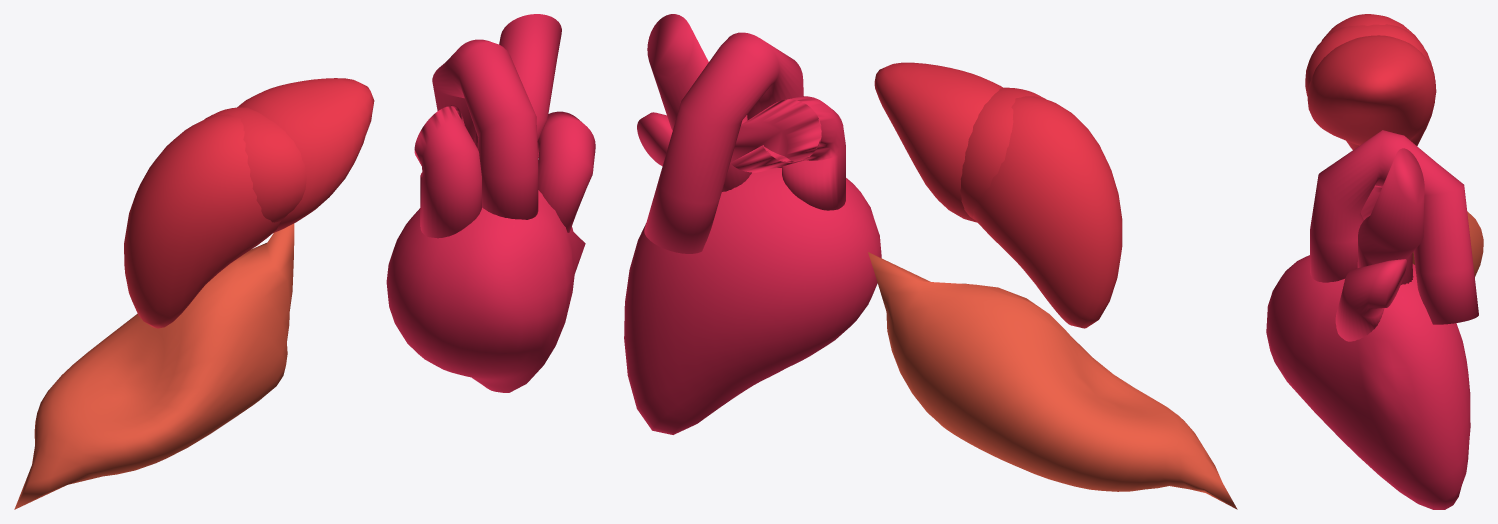
The model's file is TheOrgans3.glb.
3 views of the same model, side by side, from view 1: azimuth 30°, elevation 25°; view 2: azimuth 150°, elevation 25°; view 3: azimuth 270°, elevation 25° (orthographic). The views are drawn at different scales.
Parts seen in each view (by area): view 1: Heart, Sphere, Liver; view 2: Heart, Sphere, Liver; view 3: Heart, Liver, Sphere.
Boxes of the visible parts, x1,y1,x2,y2 form: Heart: [386, 14, 595, 392]; Sphere: [14, 223, 294, 509]; Liver: [124, 78, 374, 328]; Heart: [624, 14, 881, 434]; Sphere: [868, 252, 1237, 509]; Liver: [874, 62, 1122, 328]; Heart: [1266, 130, 1478, 509]; Liver: [1305, 14, 1436, 149]; Sphere: [1412, 211, 1483, 277].
Bounding box in the file's own units: 4.83 × 3.1 × 1.69.
